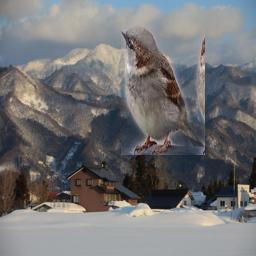Sparrow: (121, 25, 205, 155)
